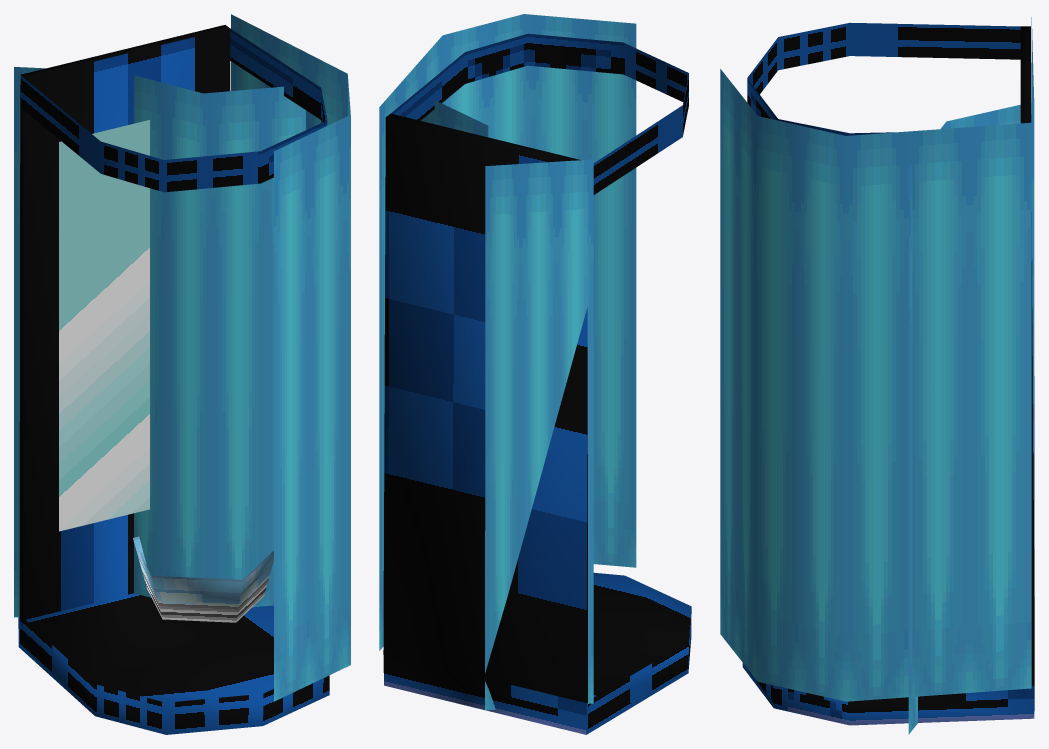
3 renders of one model, left to right at view 1: azimuth 30°, elevation 25°; view 2: azimuth 150°, elevation 25°; view 3: azimuth 270°, elevation 25°, orthographic. The views are drawn at different scales.
Parts seen in each view (by area): view 1: 3814kg_sh1_37; view 2: 3814kg_sh1_37; view 3: 3814kg_sh1_37.
Boxes of the visible parts, box(x1,y1,x2,y2) form: 3814kg_sh1_37: box(14, 14, 350, 734); 3814kg_sh1_37: box(379, 14, 691, 734); 3814kg_sh1_37: box(720, 17, 1034, 734).
Bounding box in the file's own units: 0.8708 × 1.93 × 0.9189.
3 materials, 3 textured.
